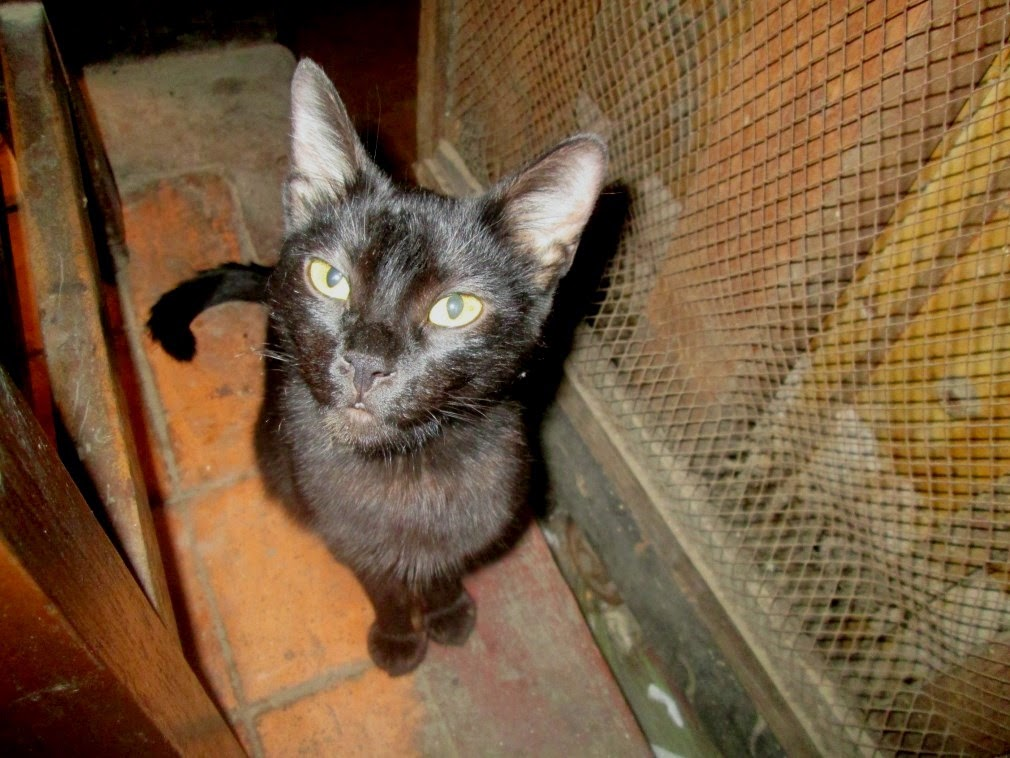cat: (130, 38, 624, 698)
